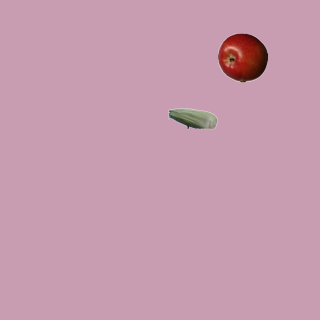Apple Braeburn: (217, 32, 267, 82)
Corn Husk: (167, 93, 217, 143)
